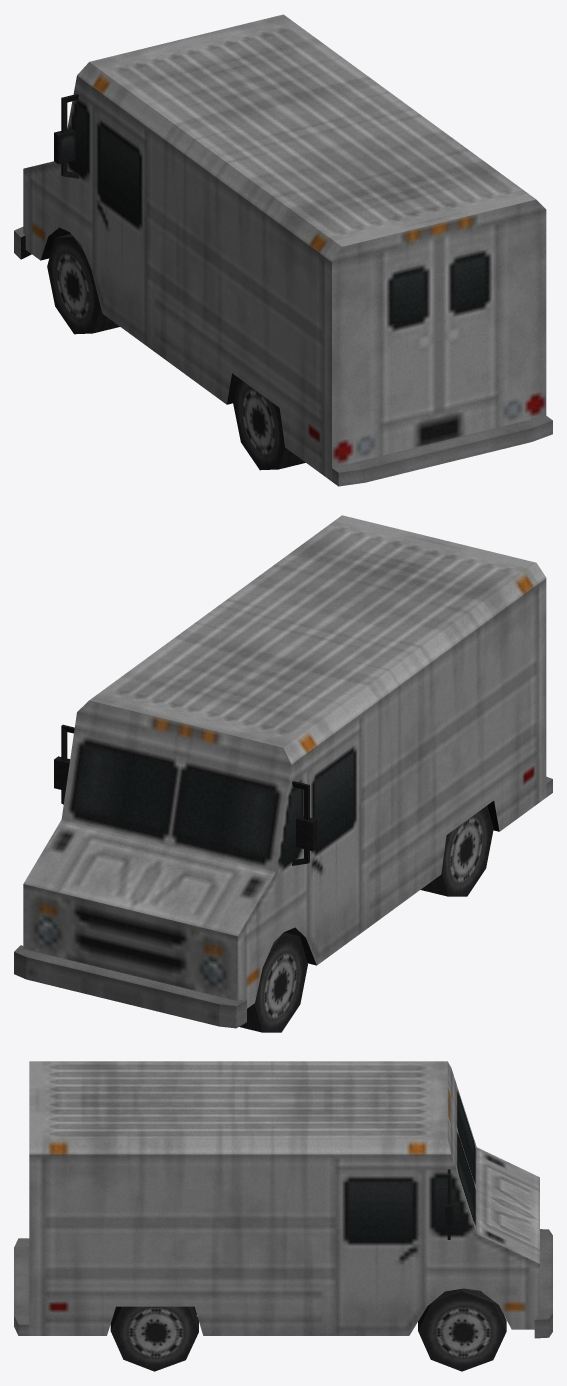
Rendered from truck_wreck.glb.
The picture shows the model from 3 angles, top to bottom: view 1: azimuth 30°, elevation 25°; view 2: azimuth 150°, elevation 25°; view 3: azimuth 270°, elevation 25°; orthographic projection. The views are drawn at different scales.
Visible parts, largest first — view 1: truck_wreck__car8_mat; view 2: truck_wreck__car8_mat; view 3: truck_wreck__car8_mat.
Part boxes in pixels (x1,y1,x2,y2): truck_wreck__car8_mat: (14,14,552,486); truck_wreck__car8_mat: (14,515,552,1032); truck_wreck__car8_mat: (14,1061,552,1371).
Bounding box in the file's own units: 3.22 × 3.29 × 7.
1 material, 1 textured.
